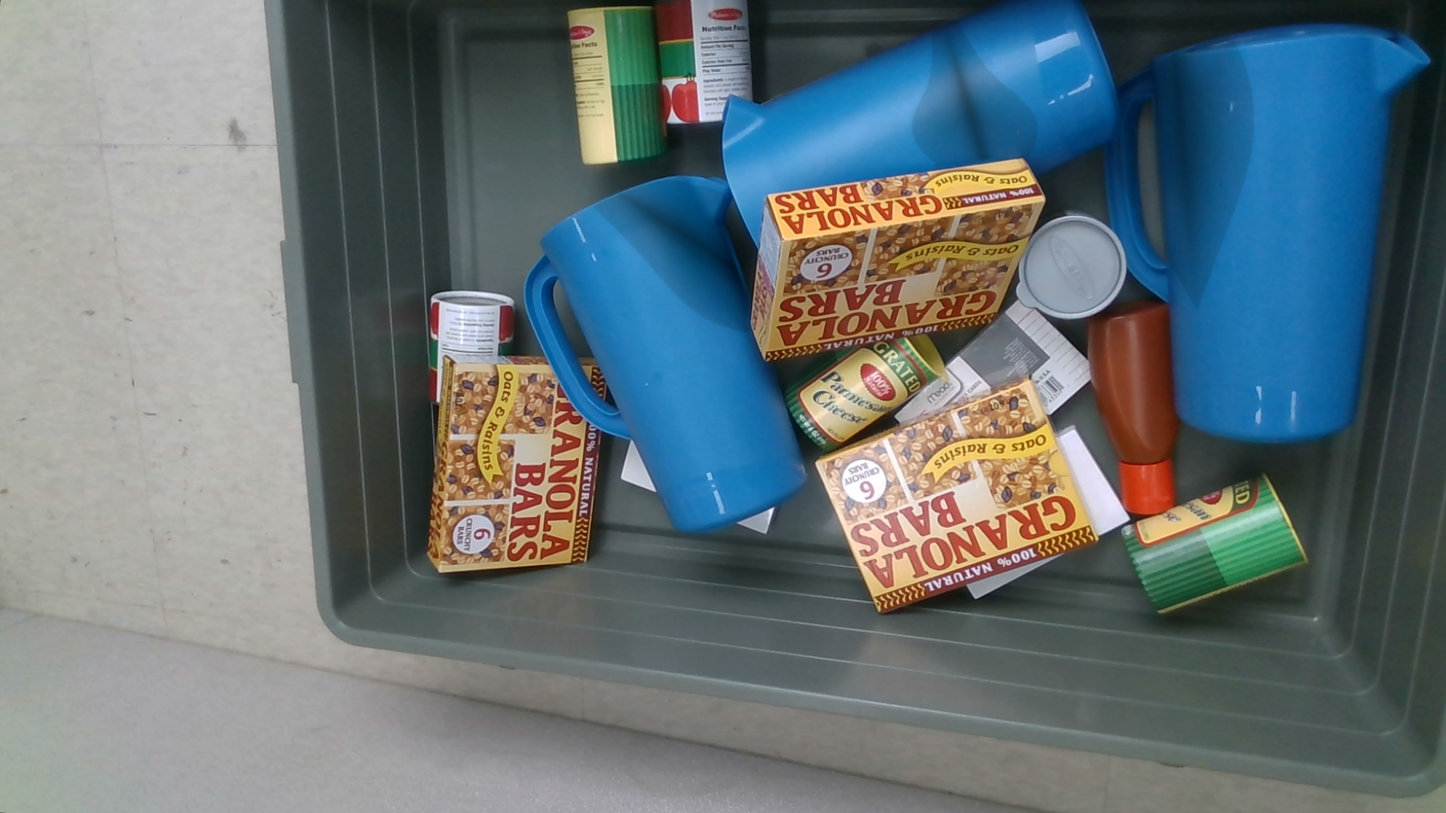defect: (1107, 38, 1254, 308), (593, 180, 750, 333), (912, 20, 1038, 168)
